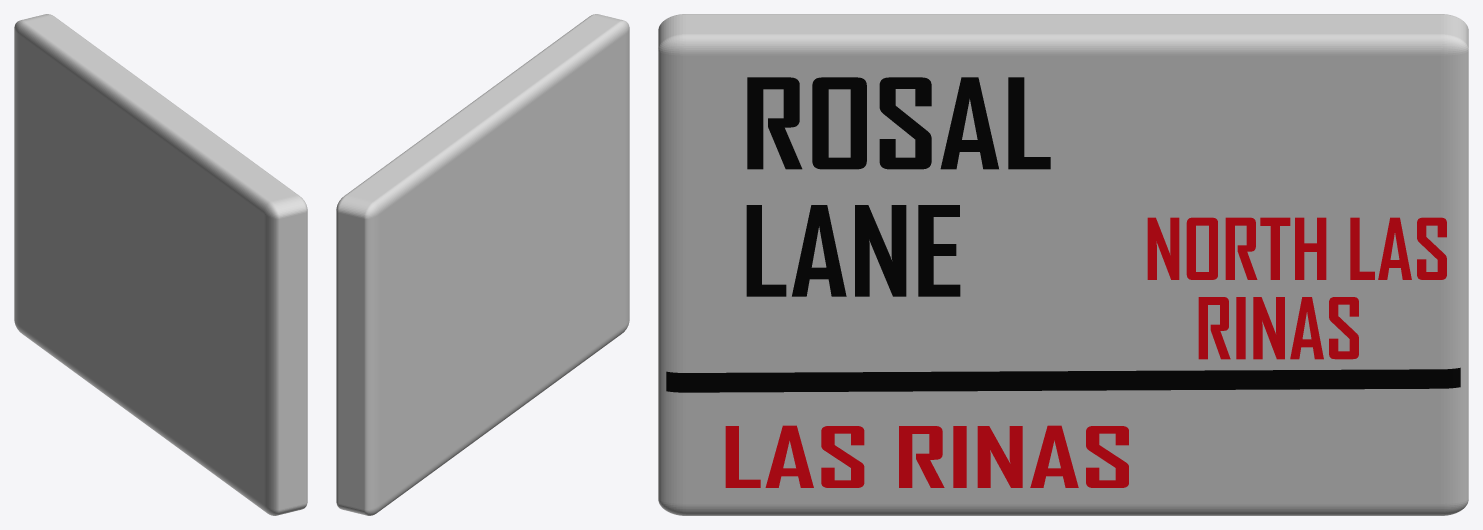
The model's file is uk_styled_street_sign_18.fbx.
The picture shows the model from 3 angles, left to right: view 1: azimuth 30°, elevation 25°; view 2: azimuth 150°, elevation 25°; view 3: azimuth 270°, elevation 25°; orthographic projection. The views are drawn at different scales.
Visible parts, largest first — view 1: Cube; view 2: Cube; view 3: Cube, Text, Text.002, Text.001, Text.003, Text.004.
Part boxes in pixels (x1=…): Cube: x1=14, y1=14, x2=307, y2=515; Cube: x1=336, y1=14, x2=629, y2=515; Cube: x1=658, y1=14, x2=1468, y2=515; Text: x1=747, y1=77, x2=1050, y2=169; Text.002: x1=725, y1=425, x2=1128, y2=487; Text.001: x1=746, y1=205, x2=960, y2=296; Text.003: x1=1147, y1=217, x2=1446, y2=279; Text.004: x1=1198, y1=297, x2=1358, y2=359.
Bounding box in the file's own units: 1.63 × 11.91 × 18.18.
